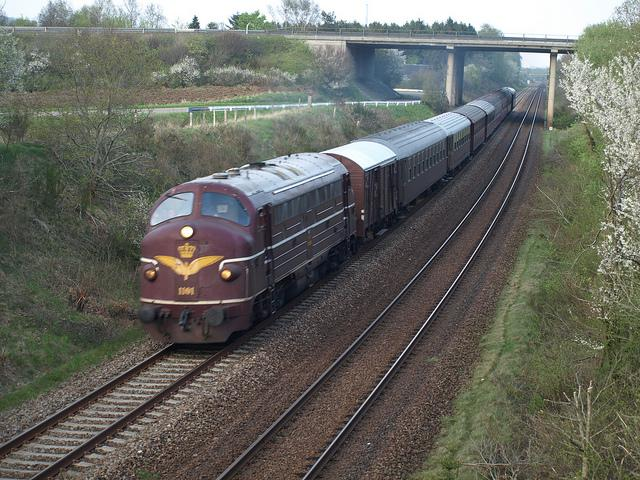Train: (139, 85, 520, 349)
